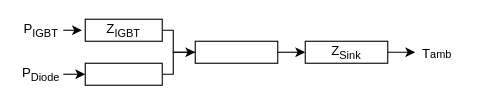
Some shapes in this 477 by 105 pixel diagram are drawn without their labels. The shapes that lost their labels are listed below. From the top down, each one's centre as x and y in pixels, then its label:
(x=236, y=51): Z Paste
(x=123, y=73): Z Diode
